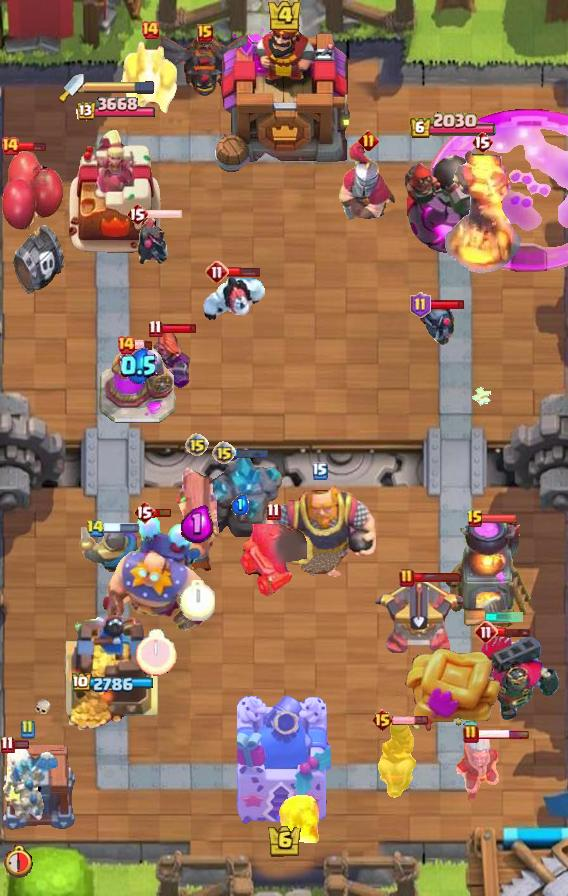archer-evolution: (153, 33, 257, 97)
bar: (64, 124, 164, 256)
battle-healer: (173, 459, 221, 573)
battle-ram: (135, 215, 173, 269), (415, 302, 457, 346)
bomb: (0, 745, 78, 831)
cannoneer-tower: (196, 454, 284, 552)
electro-dragon: (443, 148, 521, 276)
electro-spirit: (120, 347, 157, 385), (181, 505, 213, 543), (231, 493, 249, 515)
elite-barbarian: (373, 718, 417, 800)
elixir: (136, 629, 177, 676), (181, 580, 216, 621), (1, 842, 33, 877)
elixir-golem-small: (120, 41, 180, 119)
emote: (476, 728, 530, 739), (412, 572, 462, 583), (11, 139, 47, 152), (145, 208, 182, 220), (234, 447, 270, 459), (481, 512, 517, 524), (496, 626, 532, 638), (391, 714, 429, 725), (429, 299, 466, 310), (161, 322, 198, 333), (227, 266, 260, 278), (102, 523, 140, 533), (134, 341, 154, 352), (152, 507, 172, 518), (10, 738, 29, 749)
firecracker: (78, 527, 144, 573)
giant-skeleton: (262, 480, 378, 580)
hunter: (444, 520, 532, 630)
ice-spirit: (484, 612, 524, 622)
inferno-tower: (448, 634, 560, 722)
king-tower: (211, 7, 357, 181), (237, 696, 331, 826)
king-tower-bar: (84, 80, 156, 94)
knight-evolution: (426, 109, 568, 272)
lava-pup: (372, 574, 464, 656)
little-prince: (100, 512, 212, 632)
mini-pekka: (0, 743, 62, 825)
mortar: (451, 733, 513, 805)
pekka: (99, 343, 177, 425)
queen-tower: (62, 613, 165, 731)
rage: (199, 272, 269, 324)
royal-giant-evolution: (239, 524, 307, 598)
royal-recruit-evolution: (0, 149, 68, 299)
selected: (409, 112, 497, 140), (73, 97, 154, 123), (72, 673, 156, 695)
tesla-evolution: (142, 329, 194, 401)
text: (205, 260, 229, 284), (185, 433, 209, 457), (212, 441, 236, 465), (474, 620, 498, 644), (370, 708, 393, 732), (410, 292, 431, 318), (471, 130, 493, 154), (126, 202, 148, 226), (133, 500, 155, 524), (357, 129, 378, 151), (140, 20, 160, 40), (0, 136, 20, 156), (116, 335, 136, 355), (86, 519, 106, 538), (466, 509, 484, 529), (399, 568, 415, 588), (19, 719, 35, 739), (463, 724, 479, 744), (197, 24, 213, 42), (312, 462, 328, 480), (266, 503, 281, 522), (1, 735, 16, 753), (149, 318, 163, 337)
tower-bar: (403, 138, 503, 256)
valkyrie: (277, 789, 323, 847)
wall-breaker-evolution: (338, 142, 398, 222)
